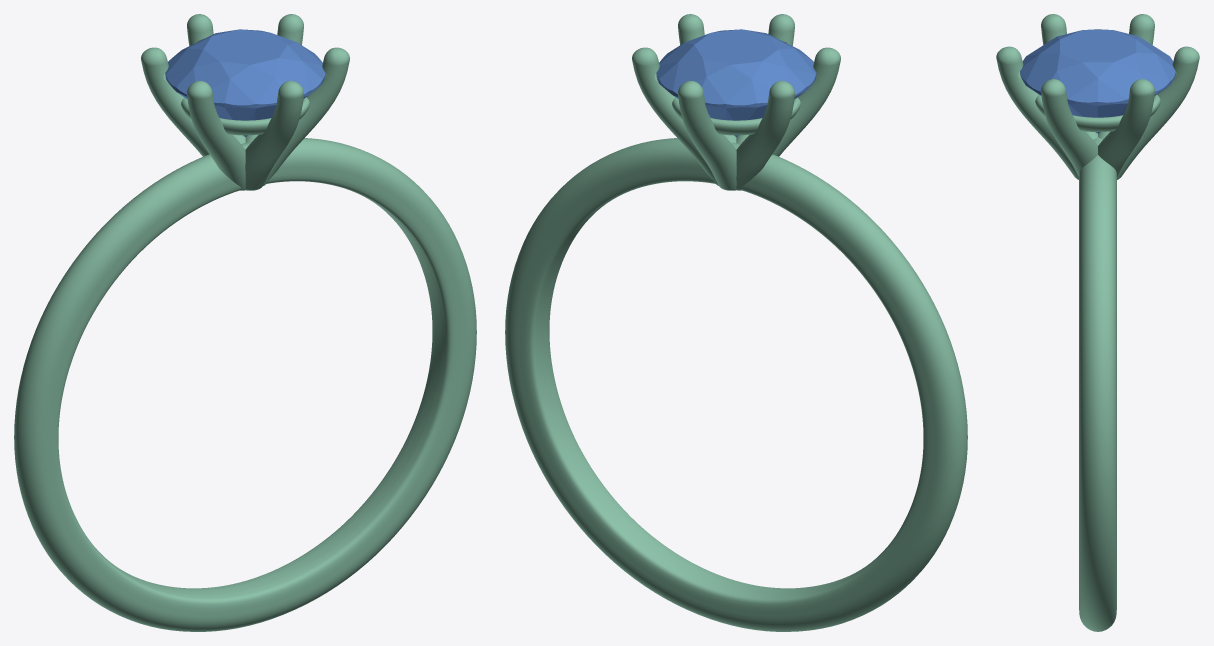
3 renders of one model, left to right at view 1: azimuth 30°, elevation 25°; view 2: azimuth 150°, elevation 25°; view 3: azimuth 270°, elevation 25°, orthographic. The views are drawn at different scales.
Visible parts, largest first — view 1: solitario aro 14 pedra 6.2mm.3dm, Gem; view 2: solitario aro 14 pedra 6.2mm.3dm, Gem; view 3: solitario aro 14 pedra 6.2mm.3dm, Gem.
Boxes of the visible parts, x1,y1,x2,y2 form: solitario aro 14 pedra 6.2mm.3dm: (14, 14, 476, 631); Gem: (165, 29, 325, 136); solitario aro 14 pedra 6.2mm.3dm: (505, 14, 967, 631); Gem: (656, 29, 816, 136); solitario aro 14 pedra 6.2mm.3dm: (996, 14, 1199, 631); Gem: (1020, 29, 1175, 133).
Size of the model in its own units: 2.48 by 2.98 by 0.9792.
